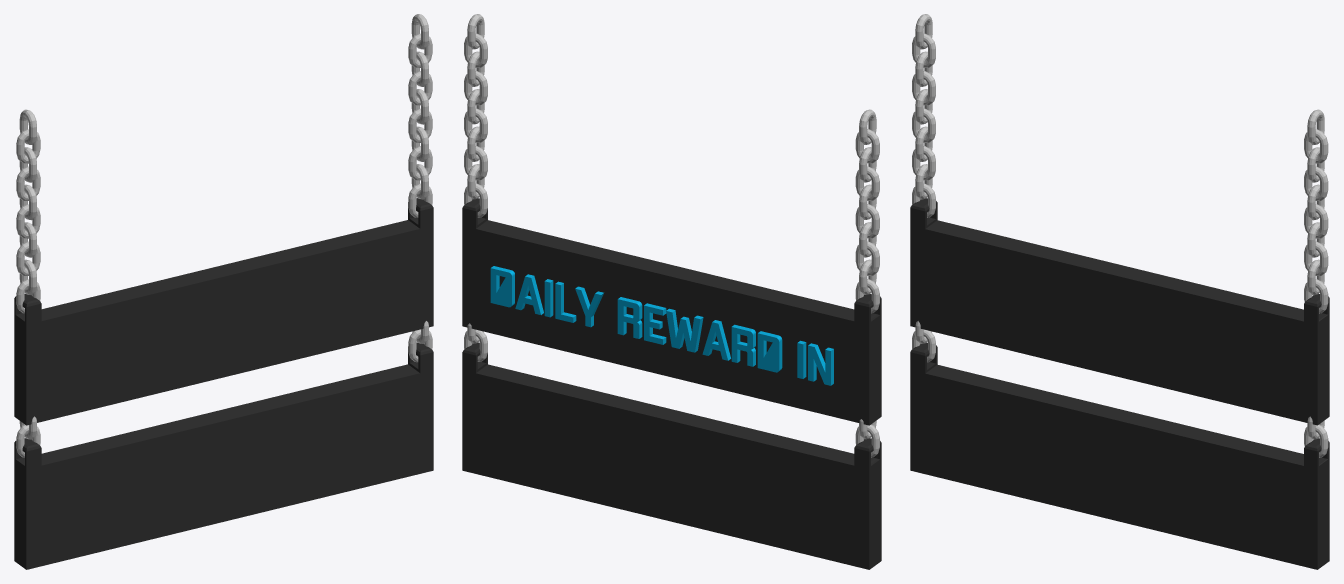
Rendered from Daily.fbx.
3 views of the same model, side by side, from view 1: azimuth 30°, elevation 25°; view 2: azimuth 150°, elevation 25°; view 3: azimuth 330°, elevation 25° (orthographic).
Visible parts, largest first — view 1: Cube.003, Cube, Torus, Torus.001, Torus.004, Torus.005; view 2: Cube.003, Cube, Text, Torus.001, Torus, Torus.004; view 3: Cube.003, Cube, Torus, Torus.001, Torus.005.
Boxes of the visible parts, bbox=[...] form: Cube.003: bbox=[14, 342, 433, 569]; Cube: bbox=[14, 198, 433, 425]; Torus: bbox=[408, 14, 432, 217]; Torus.001: bbox=[16, 109, 40, 313]; Torus.004: bbox=[16, 416, 40, 457]; Torus.005: bbox=[408, 321, 432, 362]; Cube.003: bbox=[462, 342, 881, 569]; Cube: bbox=[462, 198, 881, 425]; Text: bbox=[490, 266, 833, 385]; Torus.001: bbox=[855, 109, 879, 313]; Torus: bbox=[464, 14, 487, 217]; Torus.004: bbox=[855, 419, 879, 457]; Cube.003: bbox=[910, 342, 1329, 569]; Cube: bbox=[910, 198, 1329, 425]; Torus: bbox=[1304, 109, 1328, 313]; Torus.001: bbox=[912, 14, 935, 217]; Torus.005: bbox=[1304, 416, 1328, 457].
Bounding box in the file's own units: 624 × 651 × 41.55.
